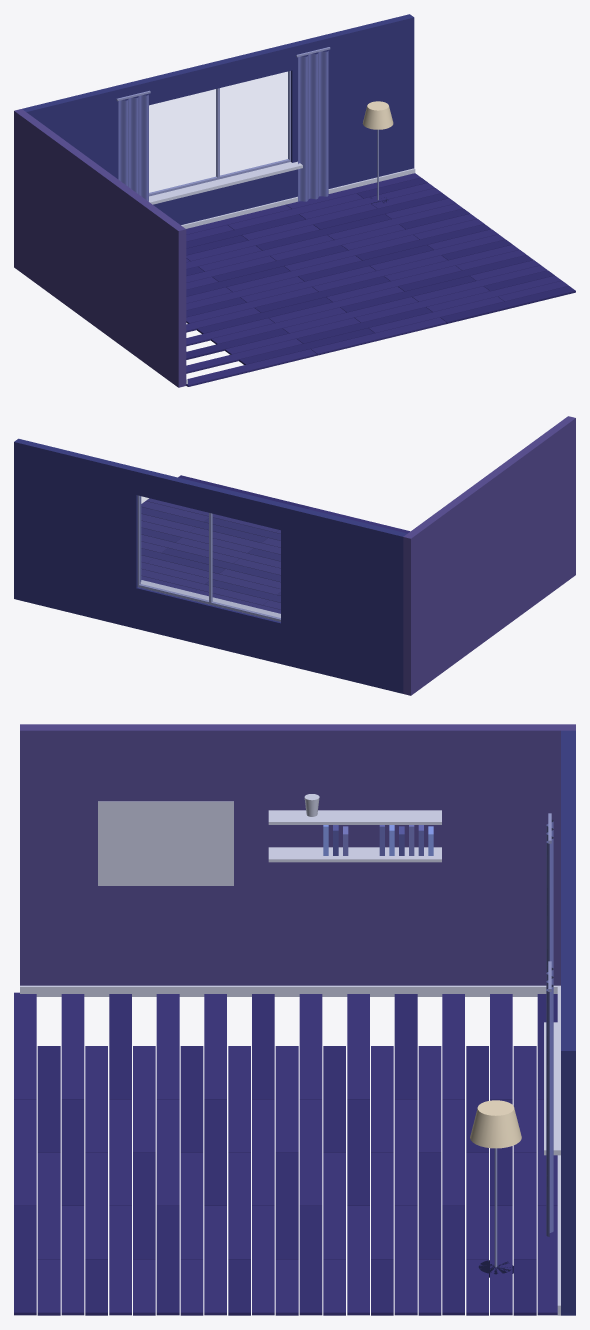
Rendered from livingRoom.glb.
3 renders of one model, top to bottom at view 1: azimuth 30°, elevation 25°; view 2: azimuth 150°, elevation 25°; view 3: azimuth 270°, elevation 25°, orthographic. The views are drawn at different scales.
Visible parts, largest first — view 1: floor, wallLeft, wallBack, windowGlass, curtain (×2), sill, baseboardBack, lampShade; view 2: wallBack, wallLeft, windowGlass, floor, sill; view 3: floor, wallLeft, wallBack, shelf, baseboardLeft, curtain (×2), lampShade, sill, baseboardBack, lampFloor.
Boxes of the visible parts, left/top/right/bottom form: floor: left=186, top=173, right=575, bottom=386; wallLeft: left=14, top=109, right=186, bottom=387; wallBack: left=22, top=14, right=414, bottom=224; windowGlass: left=149, top=71, right=290, bottom=196; curtain (×2): left=118, top=51, right=328, bottom=201; sill: left=149, top=161, right=302, bottom=204; baseboardBack: left=181, top=168, right=415, bottom=228; lampShade: left=362, top=101, right=393, bottom=129; wallBack: left=14, top=438, right=407, bottom=693; wallLeft: left=403, top=416, right=575, bottom=695; windowGlass: left=137, top=495, right=280, bottom=621; floor: left=141, top=475, right=410, bottom=613; sill: left=138, top=580, right=280, bottom=618; floor: left=14, top=992, right=557, bottom=1315; wallLeft: left=20, top=724, right=575, bottom=985; wallBack: left=561, top=730, right=575, bottom=1315; shelf: left=268, top=810, right=441, bottom=862; baseboardLeft: left=20, top=985, right=560, bottom=996; curtain (×2): left=546, top=819, right=553, bottom=1236; lampShade: left=470, top=1100, right=521, bottom=1148; sill: left=544, top=1022, right=560, bottom=1155; baseboardBack: left=557, top=985, right=560, bottom=1315; lampFloor: left=478, top=1148, right=513, bottom=1277.
Size of the model in its own units: 7.14 by 2.7 by 5.19.
